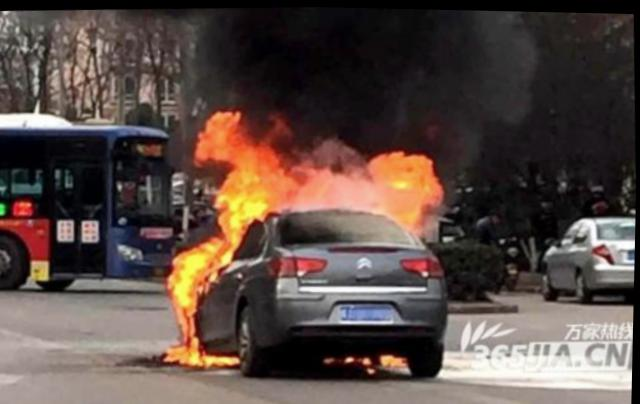fire: (154, 91, 450, 384)
